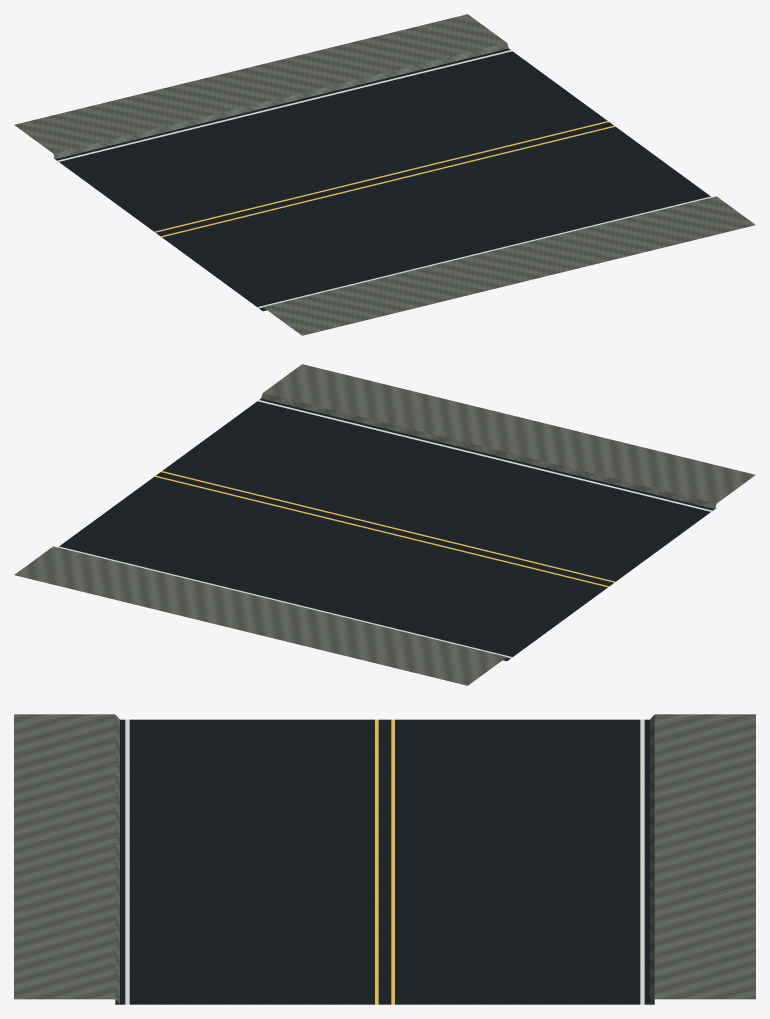
The model's file is road_collector_4lane_16m_LOD2.glb.
The picture shows the model from 3 angles, top to bottom: view 1: azimuth 30°, elevation 25°; view 2: azimuth 150°, elevation 25°; view 3: azimuth 270°, elevation 25°; orthographic projection. The views are drawn at different scales.
Parts seen in each view (by area): view 1: road_collector_4lane_16m__surface.002, road_collector_4lane_16m__markings.002; view 2: road_collector_4lane_16m__surface.002, road_collector_4lane_16m__markings.002; view 3: road_collector_4lane_16m__surface.002, road_collector_4lane_16m__markings.002.
Part boxes in pixels (box(x1,y1,x2,y2)): road_collector_4lane_16m__surface.002: box(14, 14, 755, 335); road_collector_4lane_16m__markings.002: box(57, 50, 711, 308); road_collector_4lane_16m__surface.002: box(14, 364, 755, 685); road_collector_4lane_16m__markings.002: box(58, 400, 712, 658); road_collector_4lane_16m__surface.002: box(14, 714, 755, 1004); road_collector_4lane_16m__markings.002: box(125, 719, 644, 1004).
Size of the model in its own units: 16 by 0.145 by 17.6.
Materials: 5 (3 with a texture image).
